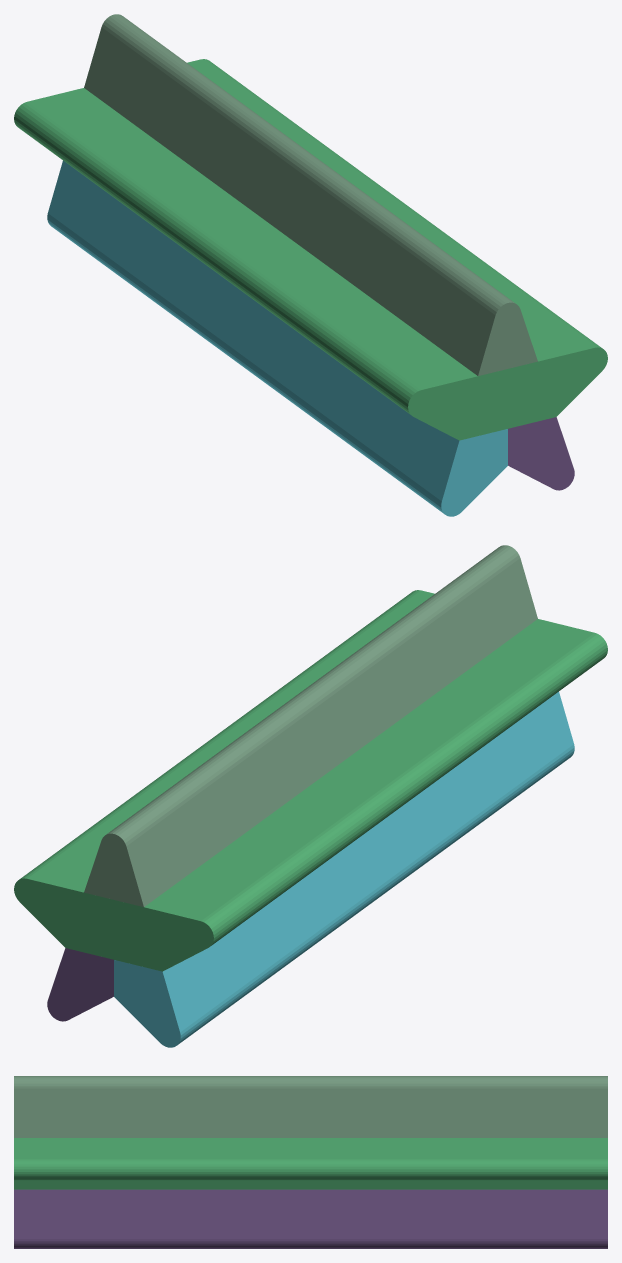
File: peg_40_canonical.obj
3 views of the same model, one above another, from view 1: azimuth 30°, elevation 25°; view 2: azimuth 150°, elevation 25°; view 3: azimuth 270°, elevation 25° (orthographic). The views are drawn at different scales.
Parts seen in each view (by area): view 1: geometry_3, geometry_0, geometry_2, geometry_1; view 2: geometry_3, geometry_0, geometry_2, geometry_1; view 3: geometry_0, geometry_1, geometry_3.
Part boxes in pixels (x1,y1,x2,y2): geometry_3: [14, 59, 607, 440]; geometry_0: [84, 14, 537, 375]; geometry_2: [47, 160, 507, 516]; geometry_1: [508, 417, 574, 490]; geometry_3: [14, 590, 607, 971]; geometry_0: [84, 545, 537, 906]; geometry_2: [114, 691, 574, 1047]; geometry_1: [47, 948, 113, 1021]; geometry_0: [14, 1076, 607, 1137]; geometry_1: [14, 1189, 607, 1248]; geometry_3: [14, 1138, 607, 1189].
Bounding box in the file's own units: 0.0439 × 0.0421 × 0.15.
